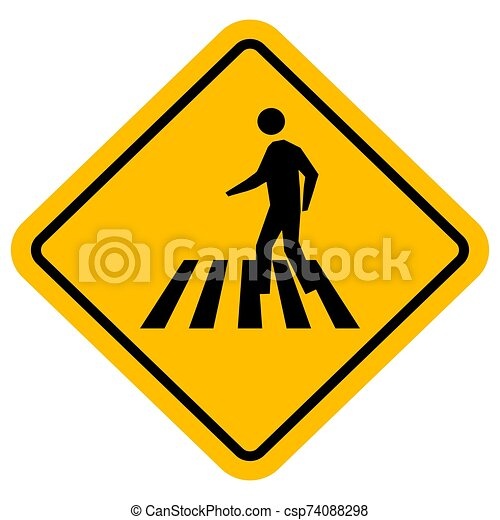pedestrian: (30, 32, 469, 447)
